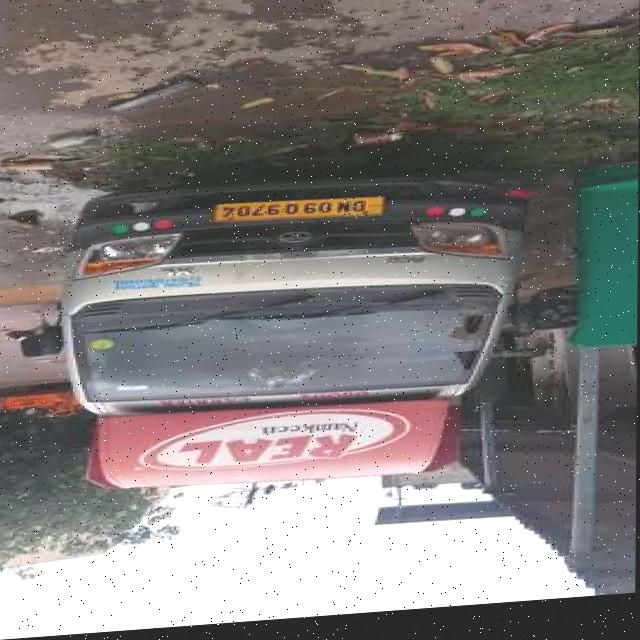plate: (215, 197, 384, 232)
